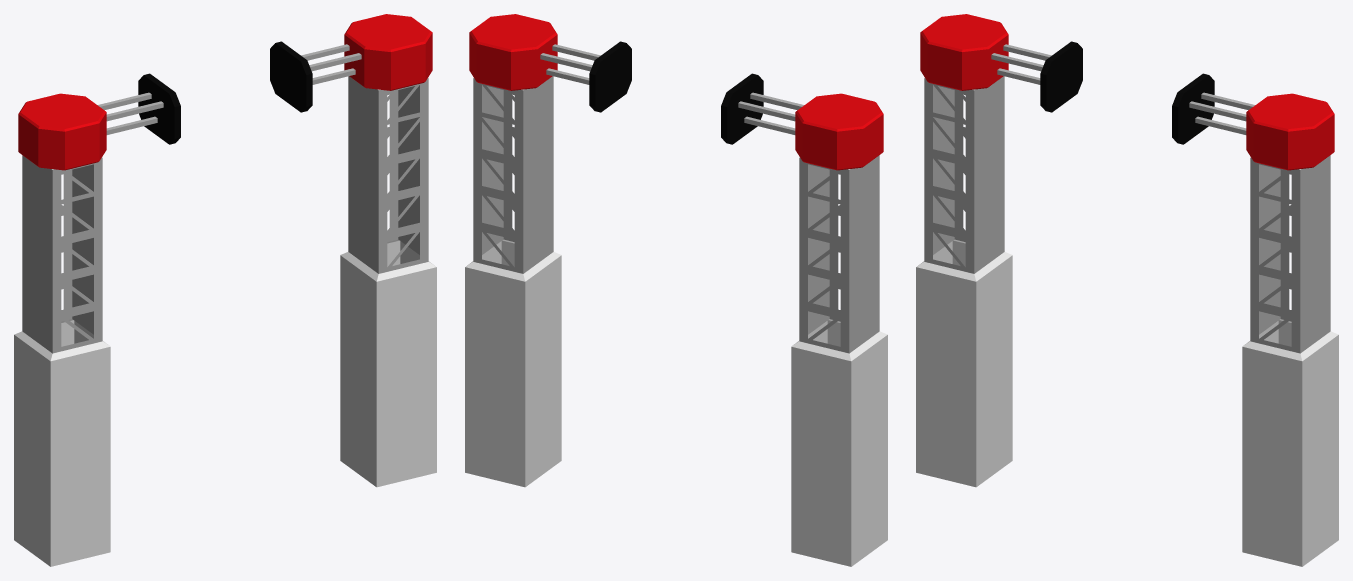
The model's file is Missile_Clamps.fbx.
3 renders of one model, left to right at view 1: azimuth 30°, elevation 25°; view 2: azimuth 150°, elevation 25°; view 3: azimuth 330°, elevation 25°, orthographic.
Parts seen in each view (by area): view 1: Cube; view 2: Cube; view 3: Cube.
Part boxes in pixels (x1=…): Cube: x1=14, y1=14, x2=436, y2=566; Cube: x1=465, y1=14, x2=887, y2=566; Cube: x1=916, y1=14, x2=1338, y2=566.
Size of the model in its own units: 629 by 669 by 109.
